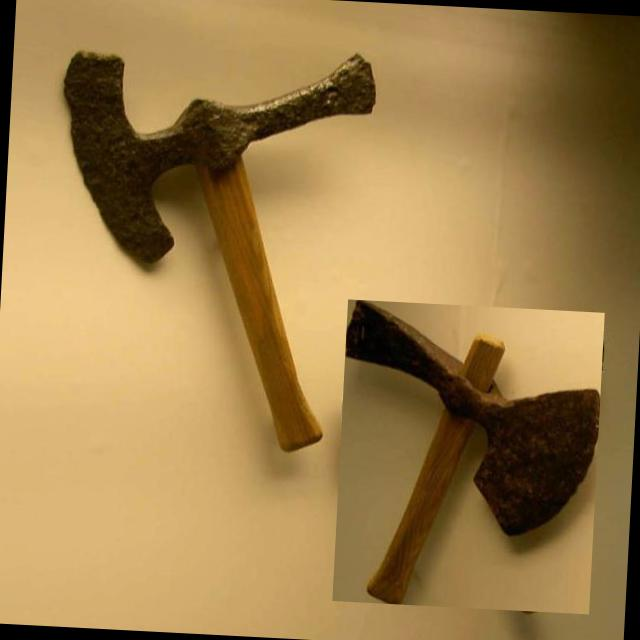Axe: (64, 53, 376, 451), (347, 301, 600, 604)
